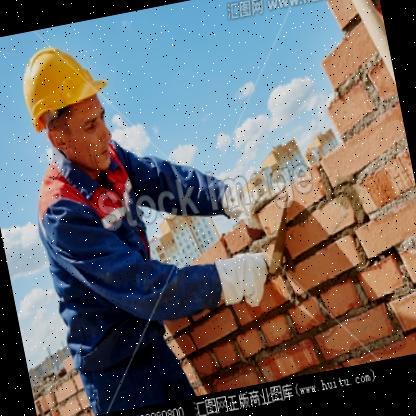capacete: (13, 35, 126, 185)
sem_colete_refletivo: (25, 135, 176, 368)
